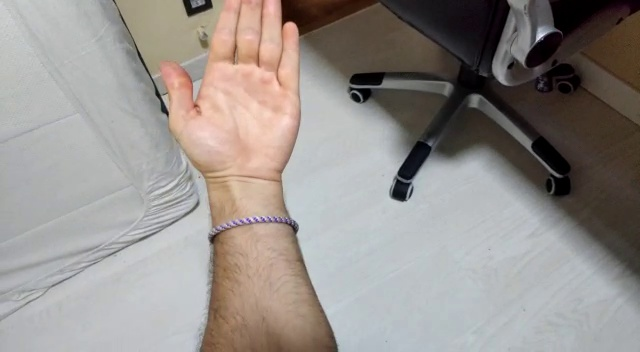Palm: (160, 1, 310, 194)
